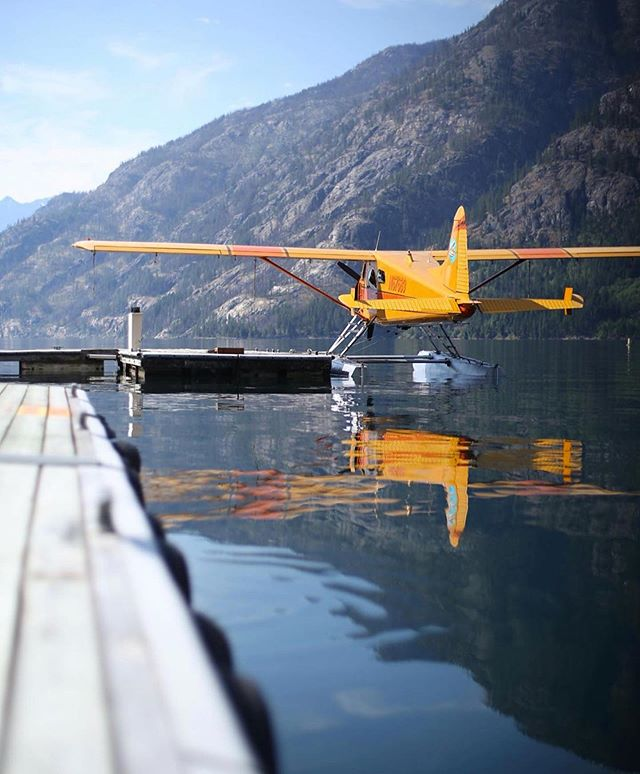mountain: (71, 34, 487, 213)
plane: (82, 218, 640, 373)
river: (123, 359, 640, 774)
sky: (11, 1, 403, 173)
